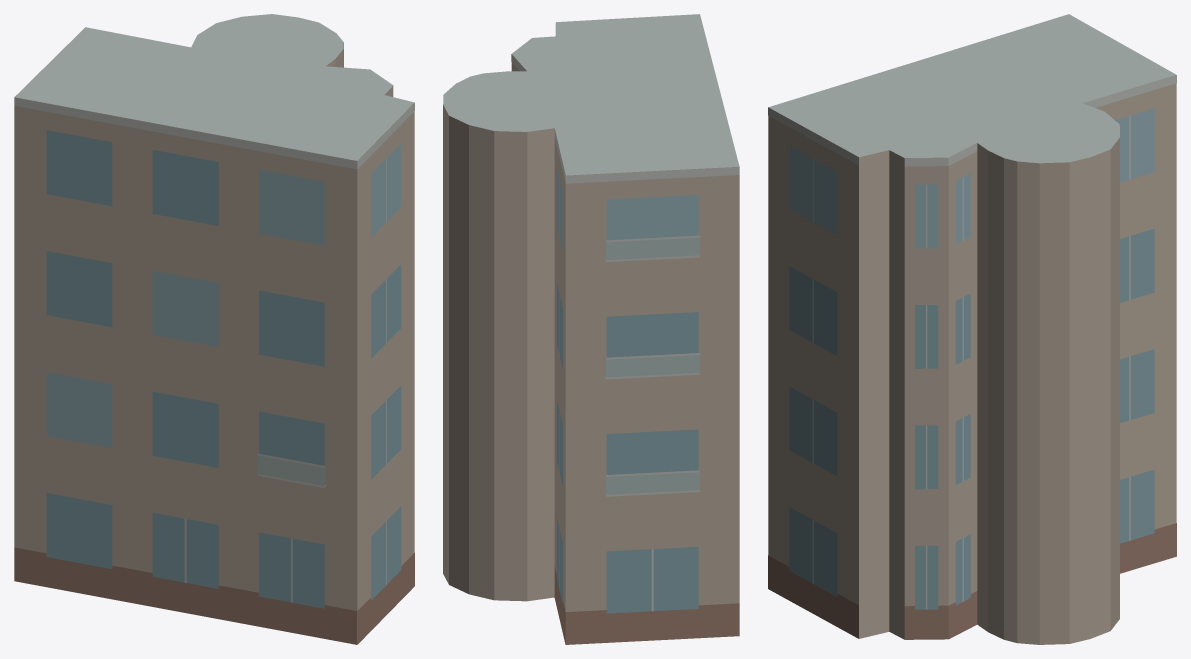
File: survey-upis-33025051.glb
3 views of the same model, side by side, from view 1: azimuth 30°, elevation 25°; view 2: azimuth 150°, elevation 25°; view 3: azimuth 270°, elevation 25° (orthographic). The views are drawn at different scales.
Visible parts, largest first — view 1: survey-upis-33025051.tmp; view 2: survey-upis-33025051.tmp; view 3: survey-upis-33025051.tmp.
Part boxes in pixels (box(x1,y1,x2,y2)): survey-upis-33025051.tmp: box(14, 14, 414, 644); survey-upis-33025051.tmp: box(443, 14, 739, 644); survey-upis-33025051.tmp: box(768, 14, 1176, 644).
Size of the model in its own units: 9.27 by 13.95 by 10.73.
